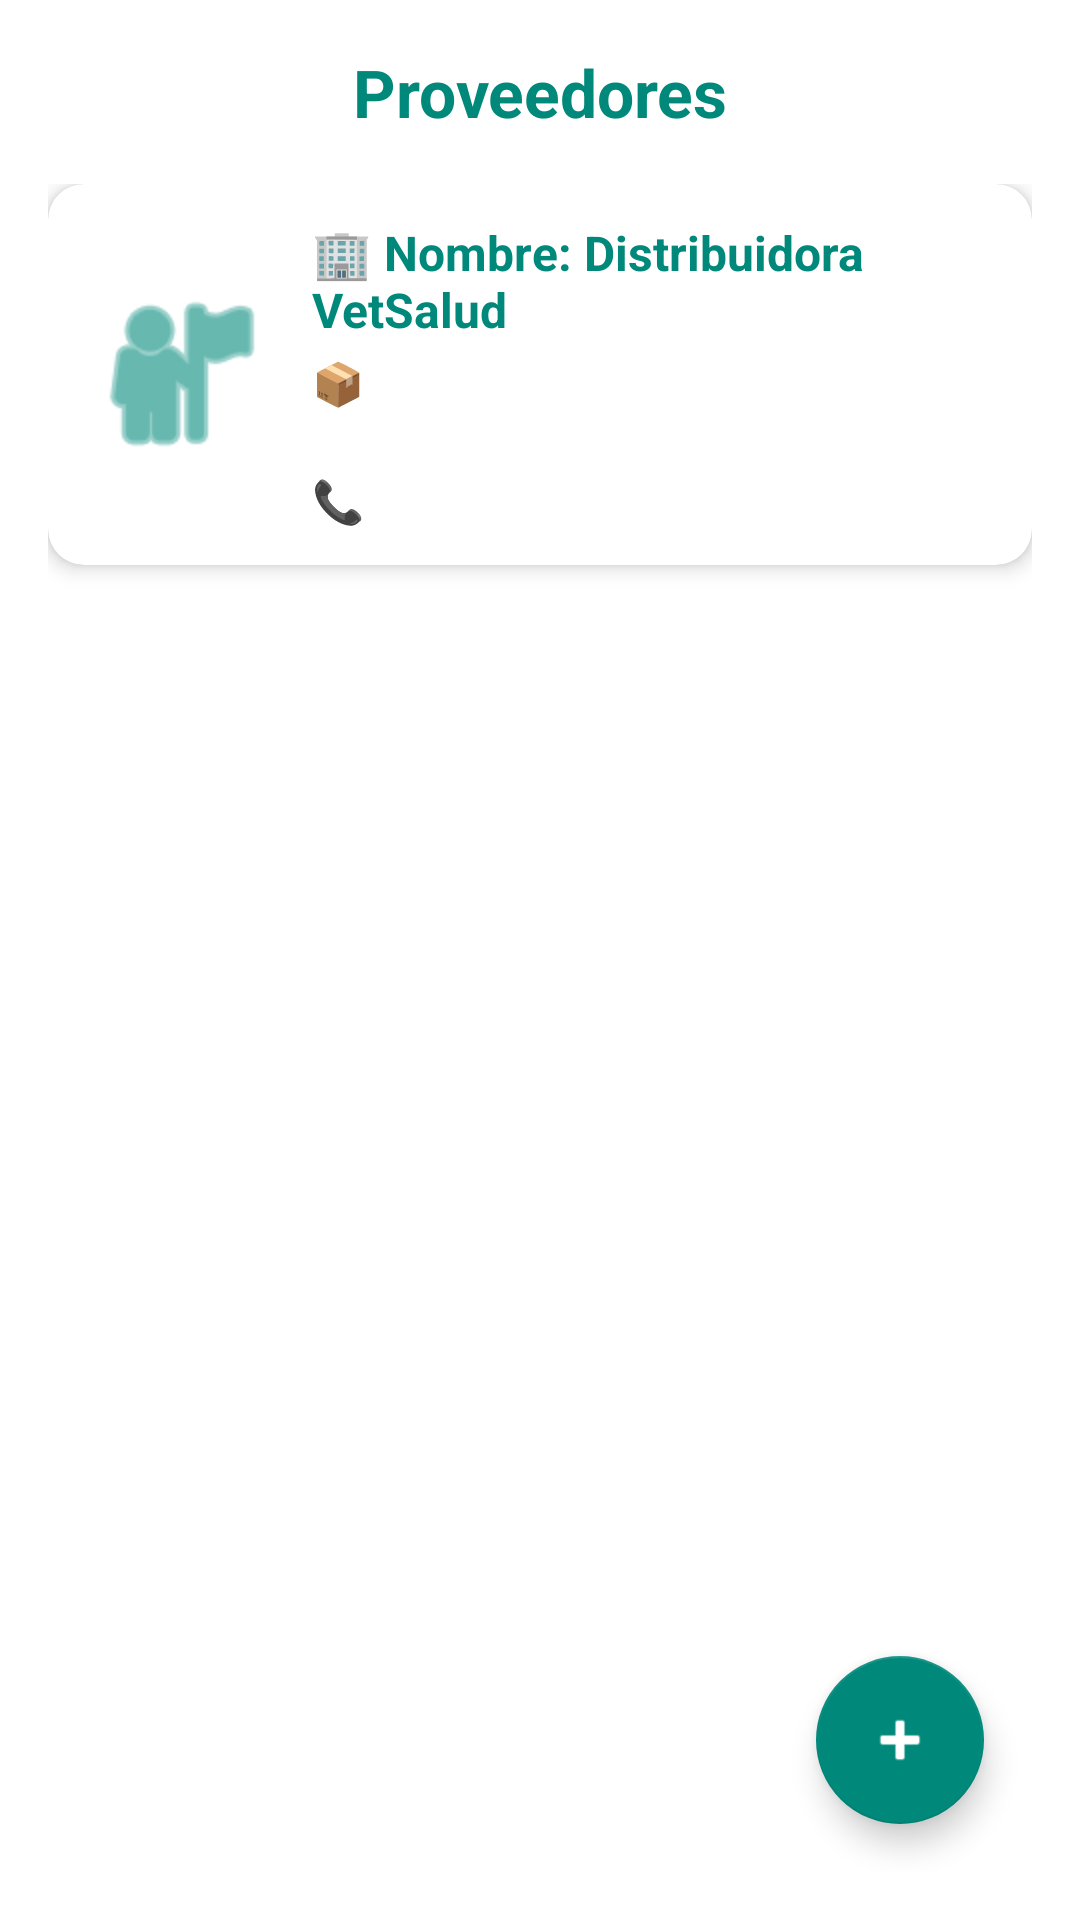

Icon bounding boxes for this 1080w x 1920h phone screenshot, format (x1, y1, x2, y2):
Agregar nuevo proveedor: (816, 1656, 984, 1824)
Imagen del proveedor: (110, 302, 254, 446)
